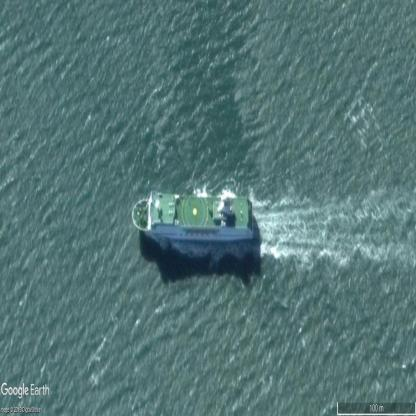ship: (130, 194, 253, 244)
